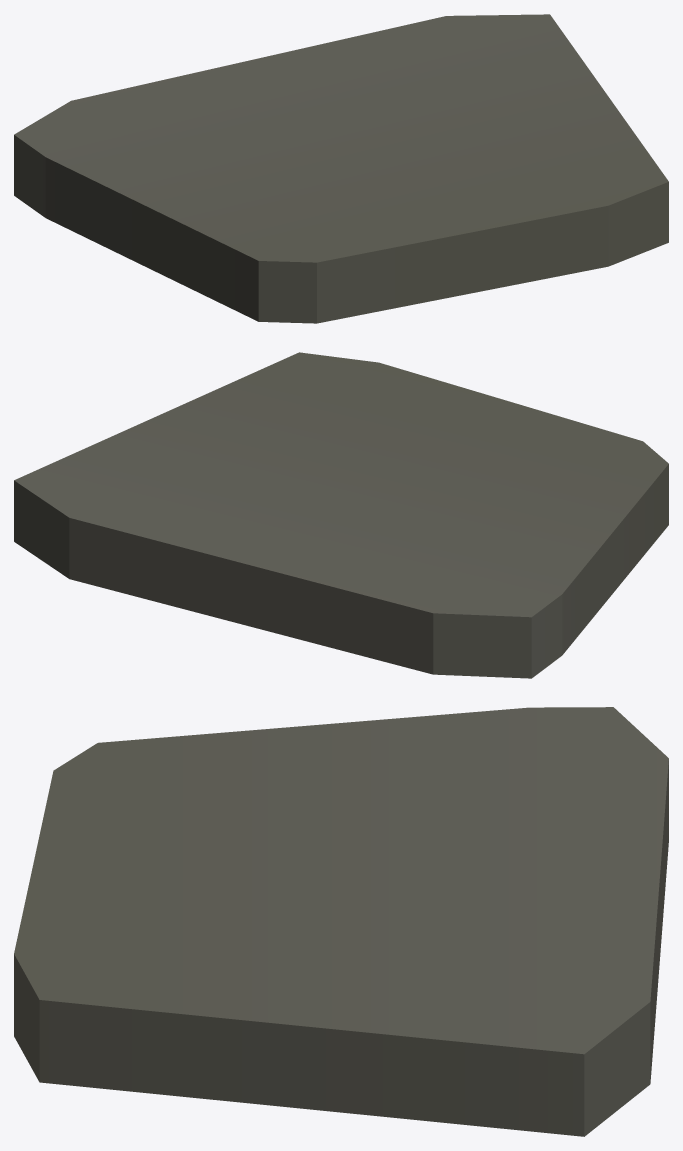
The model's file is Tile_03.fbx.
The picture shows the model from 3 angles, top to bottom: view 1: azimuth 30°, elevation 25°; view 2: azimuth 150°, elevation 25°; view 3: azimuth 270°, elevation 25°; orthographic projection. The views are drawn at different scales.
Parts seen in each view (by area): view 1: Tile_03; view 2: Tile_03; view 3: Tile_03.
Part boxes in pixels (x1,y1,x2,y2): Tile_03: (14,14,668,323); Tile_03: (14,352,668,678); Tile_03: (14,707,668,1136).
Size of the model in its own units: 0.3394 by 0.0376 by 0.2706.
